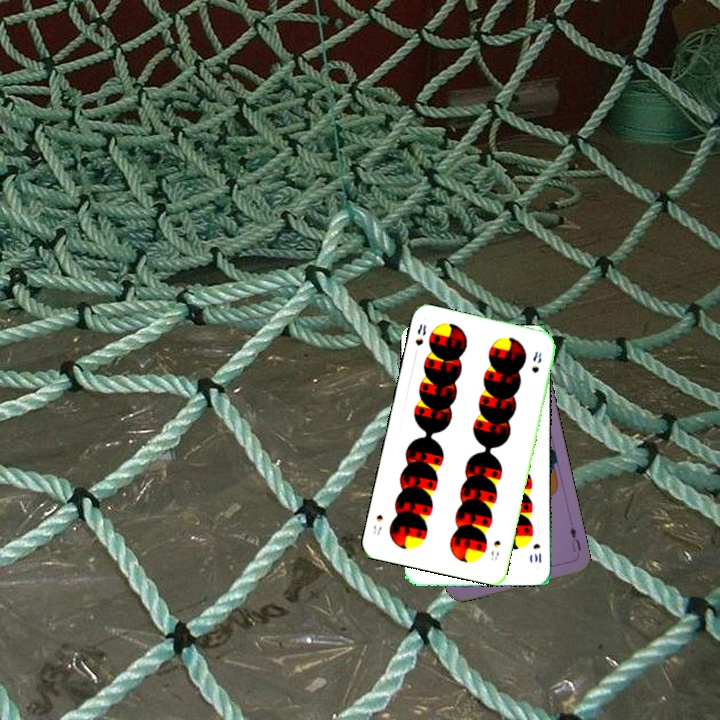EU: (566, 523, 584, 554)
S10: (529, 539, 543, 565)
S8: (411, 320, 429, 348), (487, 536, 503, 563)
